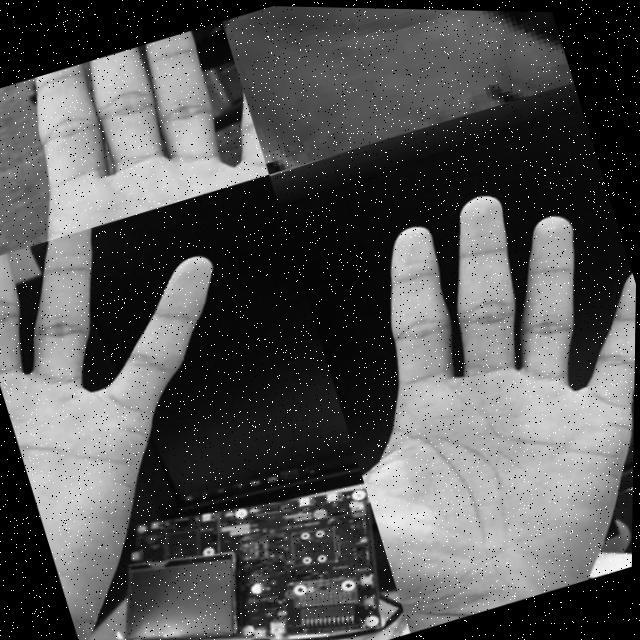no-gloves: (287, 149, 638, 635), (0, 183, 341, 640), (0, 15, 270, 271), (219, 4, 575, 178)
